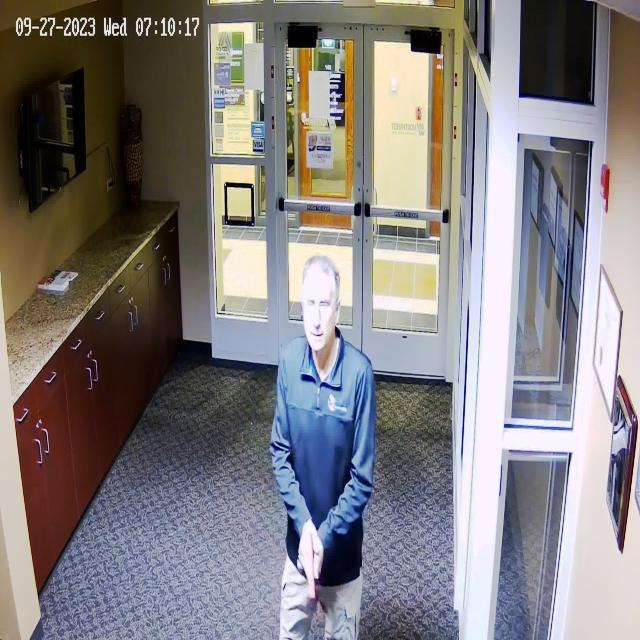Gun: (294, 536, 331, 621)
